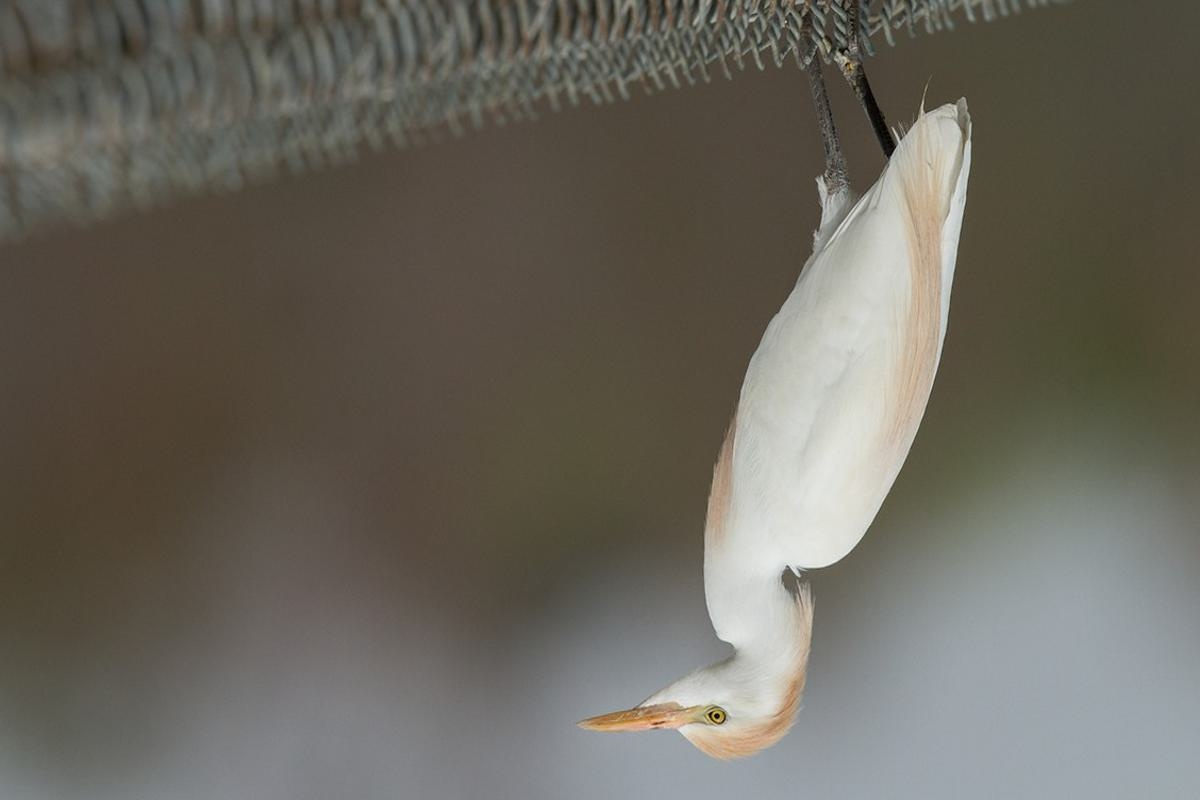egret: (577, 50, 989, 771)
